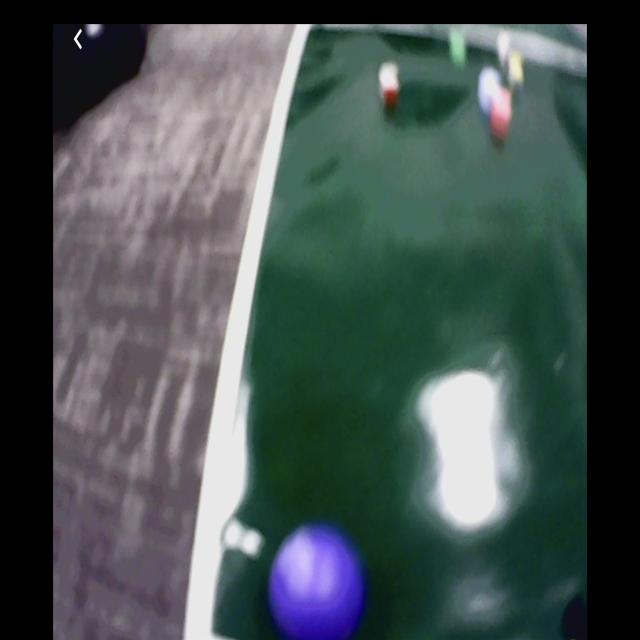ball: (272, 529, 366, 639)
